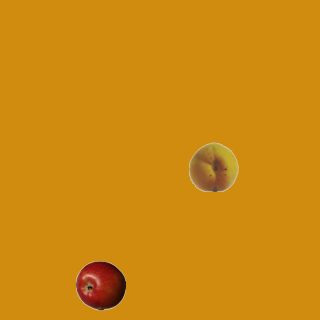Apple Braeburn: (75, 260, 125, 310)
Peach 2: (188, 141, 238, 191)
